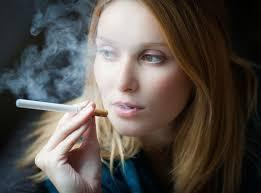smoke: (16, 99, 109, 118)
